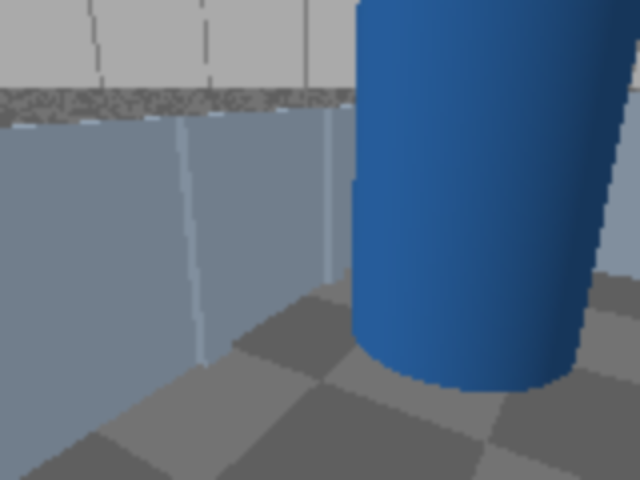person: (362, 0, 638, 380)
